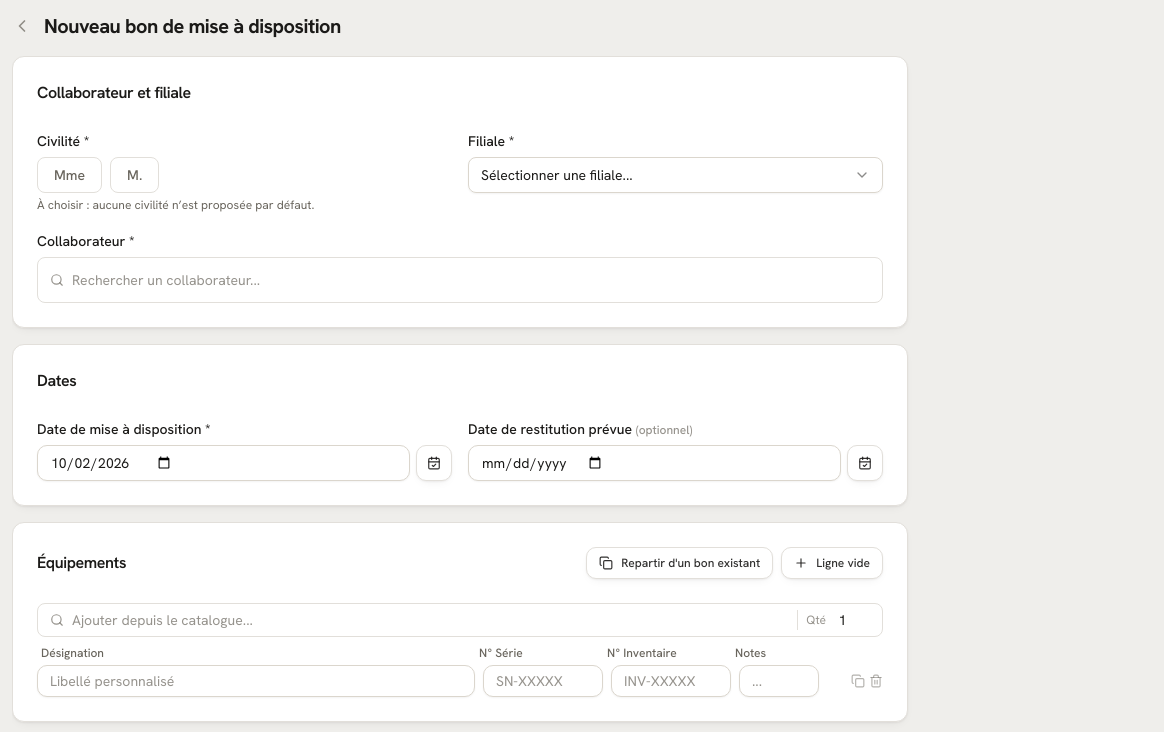
Test: BonCreatePage — pré-remplissage à l'ouverture (C1, C2) › C1 — choisir un collaborateur dans l'autocomplétion pré-remplit sa filiale connue de l'annuaire
Type "Jean" into the dropdown with placeholder "Rechercher un collaborateur..." at x=471, y=280, box [72, 264, 870, 296]
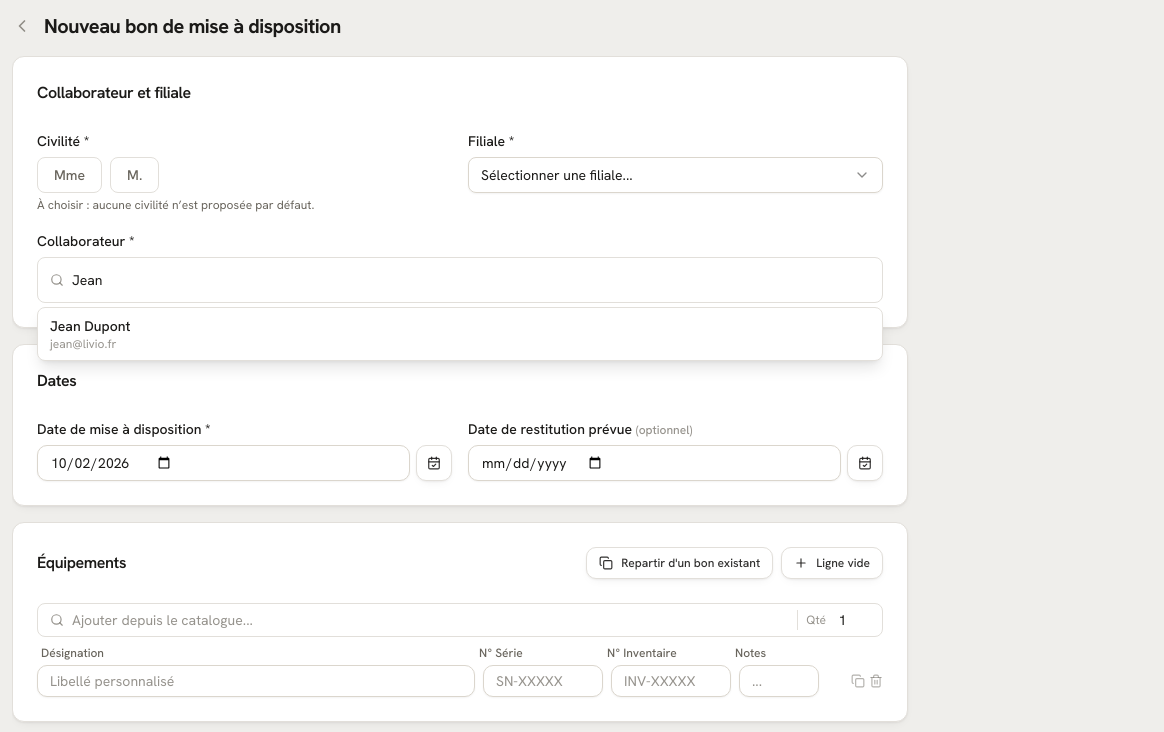
Click the text "Jean Dupont" at x=90, y=326, box [50, 316, 130, 336]
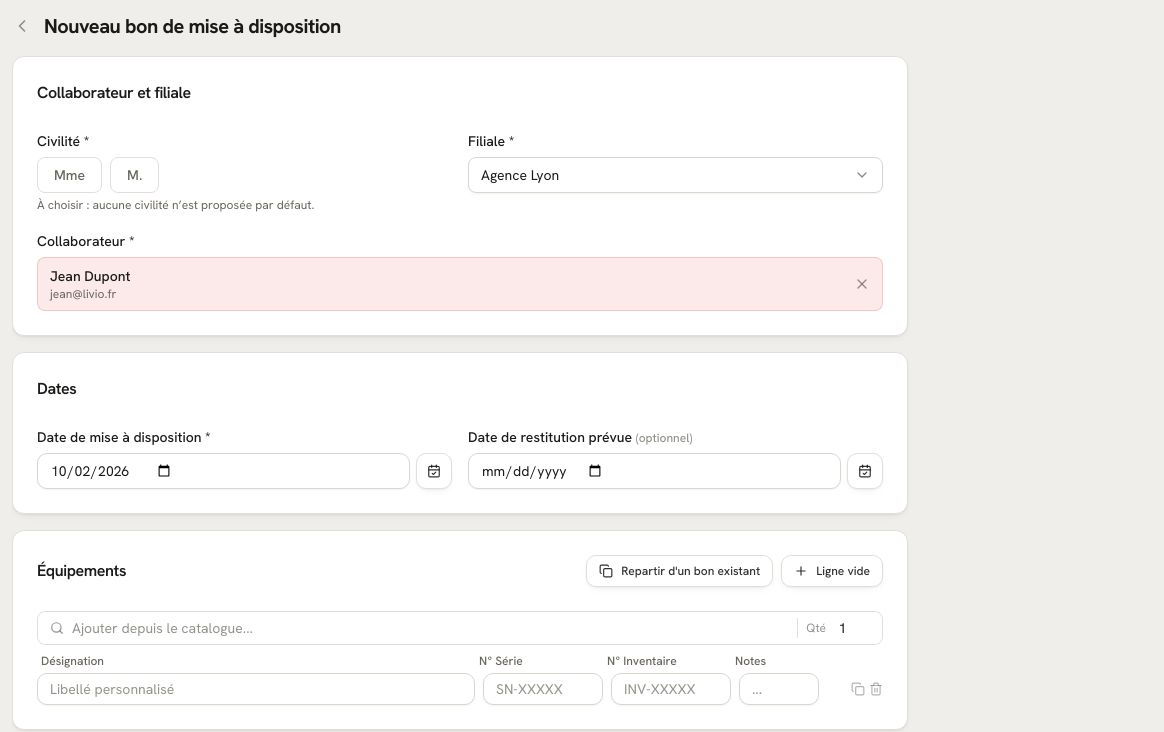
Check: the dropdown with id "filiale-select" reads "Agence Lyon", box [468, 157, 883, 193]
